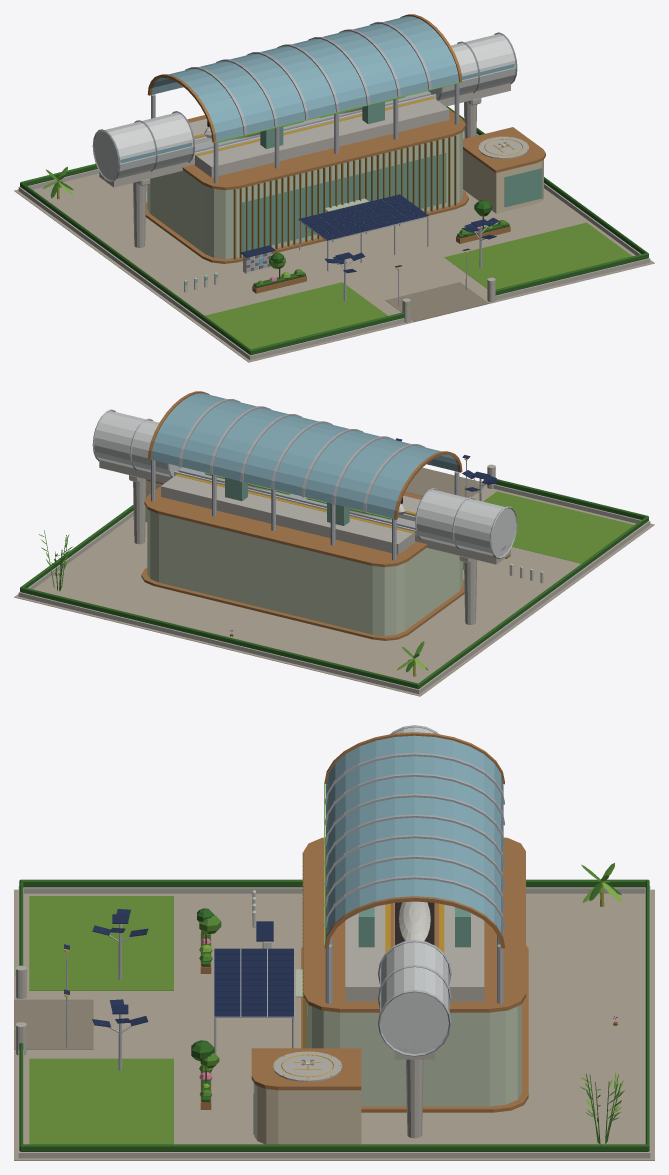
Rendered from station.glb.
The picture shows the model from 3 angles, top to bottom: view 1: azimuth 30°, elevation 25°; view 2: azimuth 150°, elevation 25°; view 3: azimuth 270°, elevation 25°; orthographic projection. The views are drawn at different scales.
Visible parts, largest first — view 1: body, windows; view 2: body; view 3: body, windows.
Boxes of the visible parts, <box> form: body: <box>14,14,654,362</box>; windows: <box>185,82,527,305</box>; body: <box>14,391,654,696</box>; body: <box>14,725,654,1160</box>; windows: <box>15,782,434,1080</box>.
Bounding box in the file's own units: 47.9 × 17.54 × 47.9.
